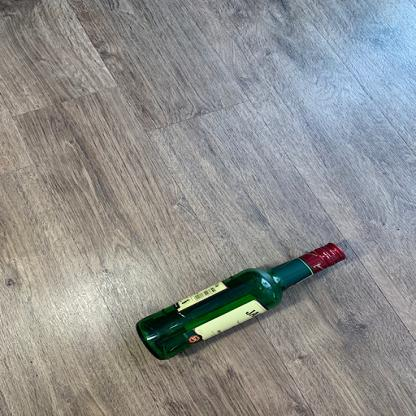trash: (134, 242, 348, 362)
